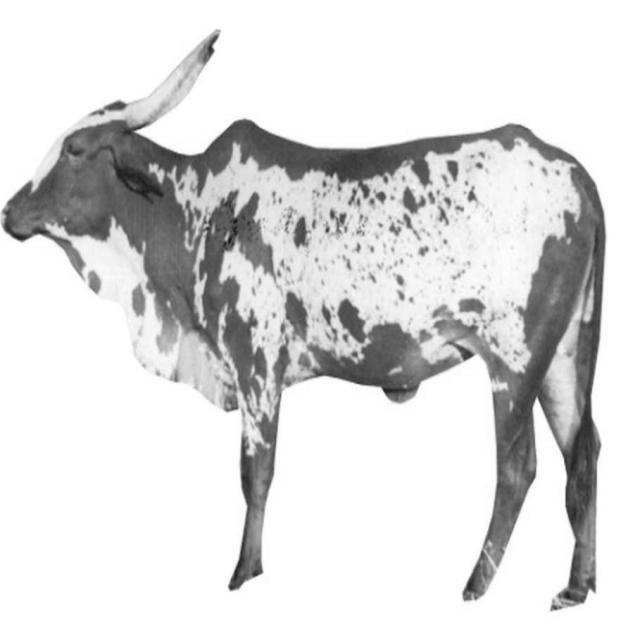Cow: (0, 27, 607, 610)
